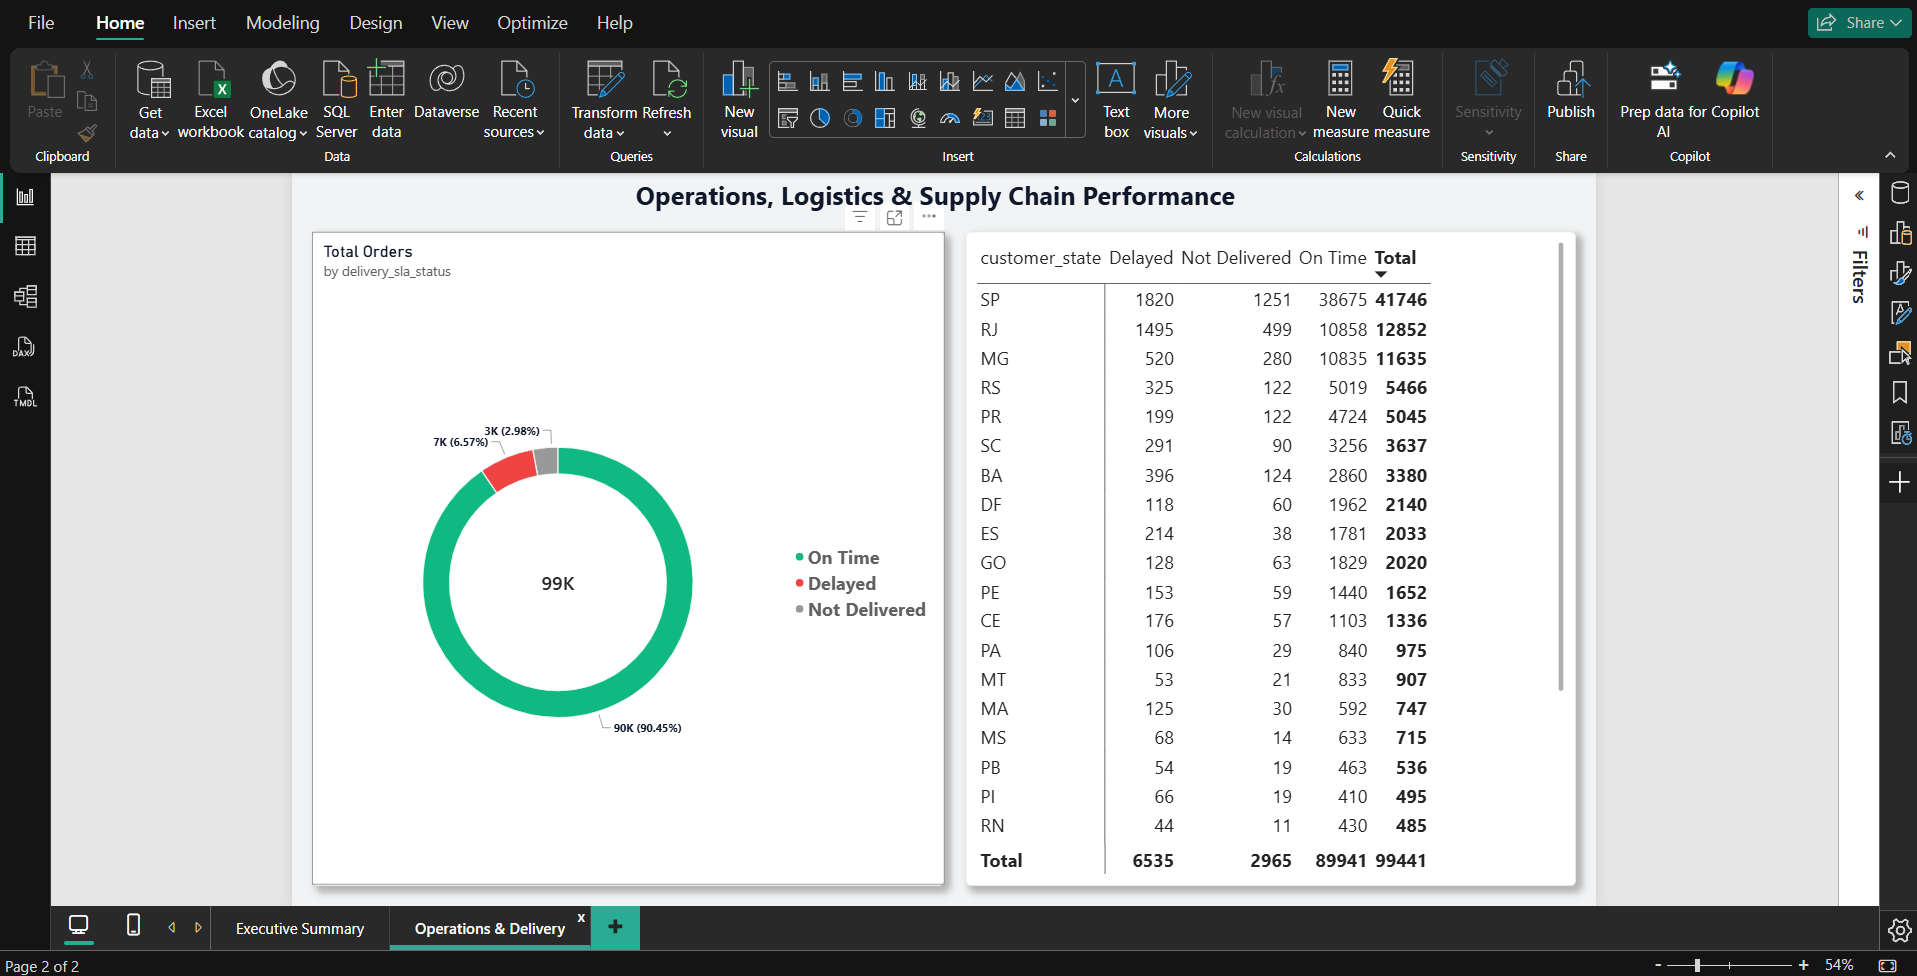

What the dashboard file says about the page in this screenshot:
{"tool":"powerbi","page":{"name":"Operations & Delivery","canvas":[1920,1080],"ordinal":1},"visuals":[{"type":"donutChart","fields":{"Category":["orders.delivery_sla_status"],"Y":["customers.Total Orders"]},"box":[30.3,86.6,930.6,963],"z":0},{"type":"pivotTable","fields":{"Columns":["orders.delivery_sla_status"],"Rows":["customers.customer_state"],"Values":["customers.Total Orders"]},"box":[991.2,86.6,898.1,963],"z":2000},{"type":"textbox","box":[100,100,300,300],"z":3000},{"type":"textbox","box":[506.4,6.5,908.9,80.1],"z":4000}]}

Visuals, with their boxes on the page's 1920x1080 design canvas (x1, y1, x2, y2). These are canvas units, not pixel positions in the 1917x976 screenshot, which may show the page scaled, cropped or inside an application window:
donutChart - orders.delivery_sla_status x customers.Total Orders: 30:87:961:1050
pivotTable - orders.delivery_sla_status x customers.customer_state: 991:87:1889:1050
textbox: 100:100:400:400
textbox: 506:6:1415:87
